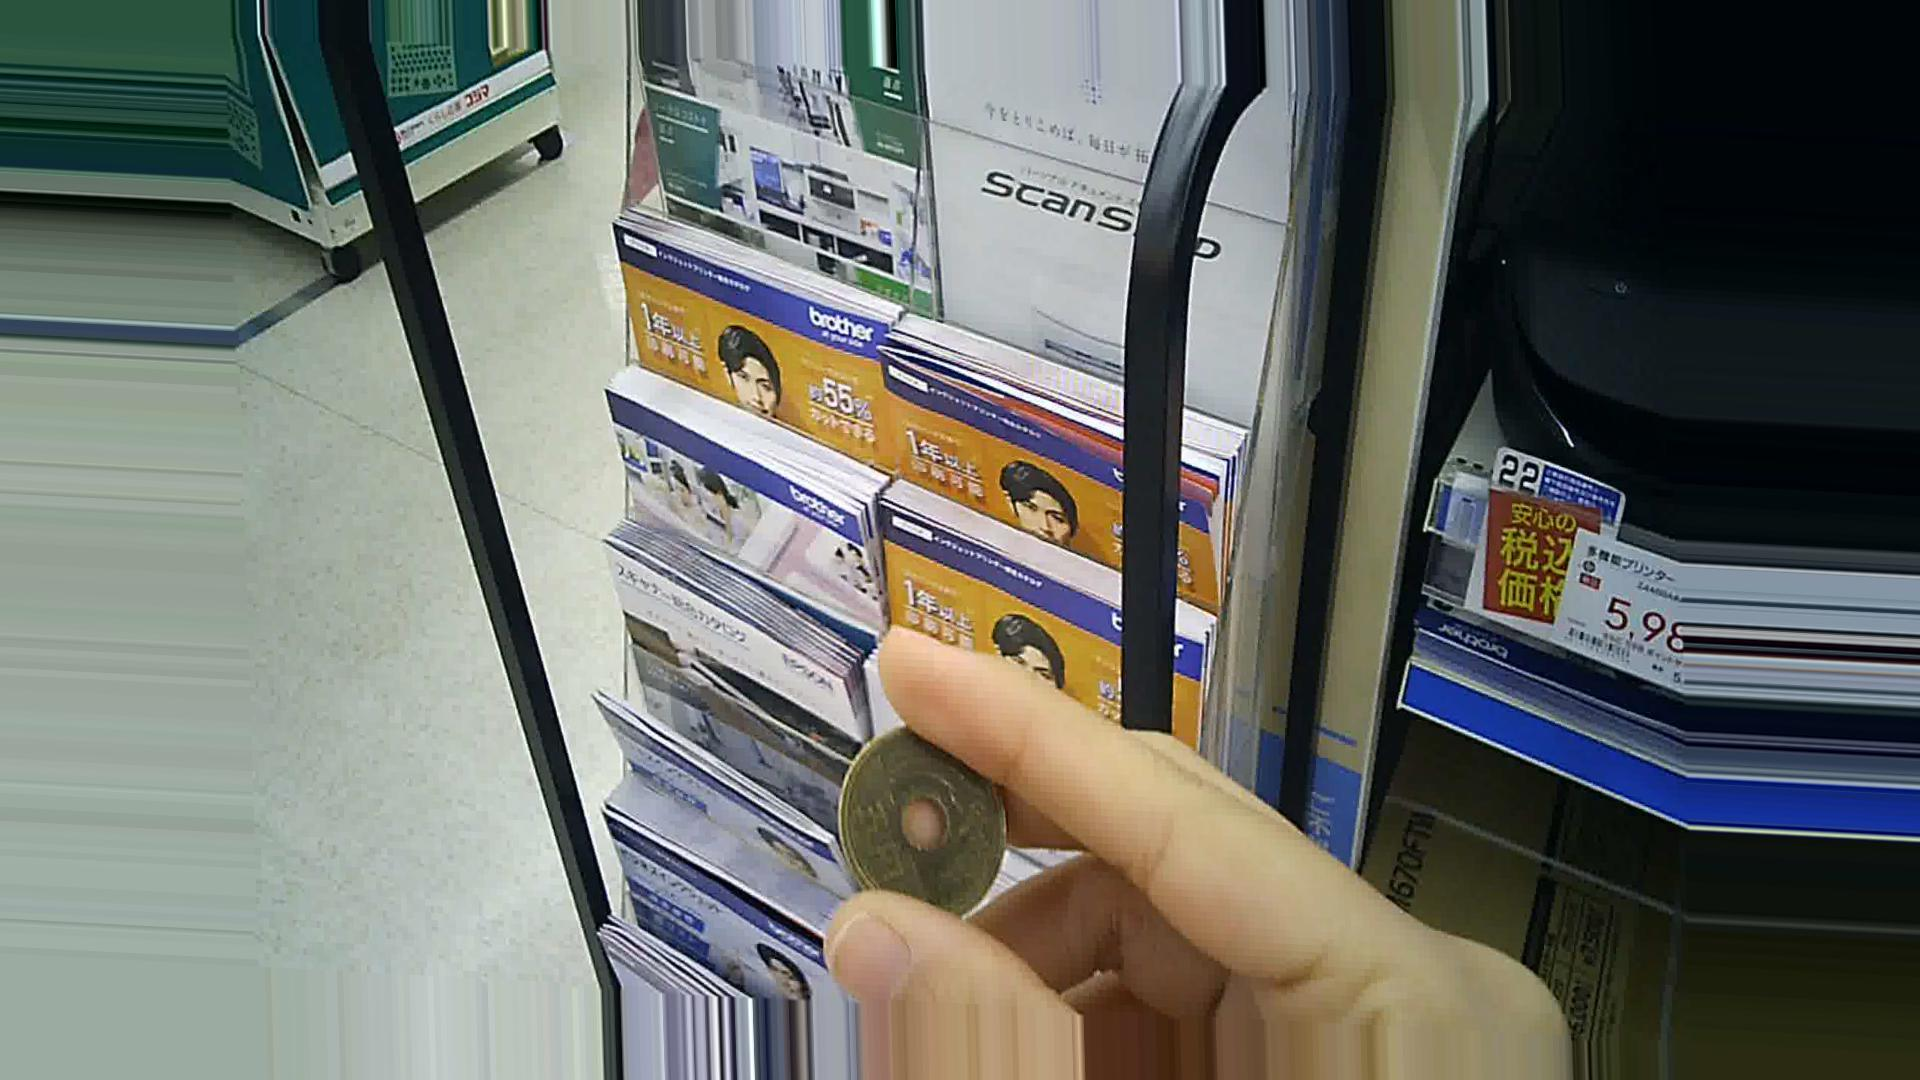5 Yen: (832, 702, 1036, 920)
